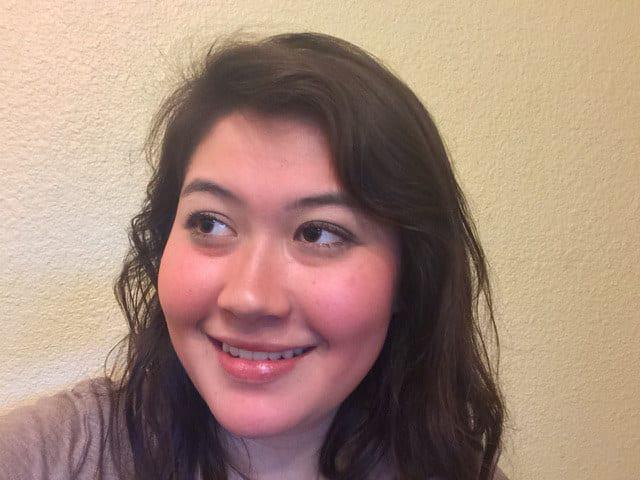Drunk: (178, 141, 377, 432)
